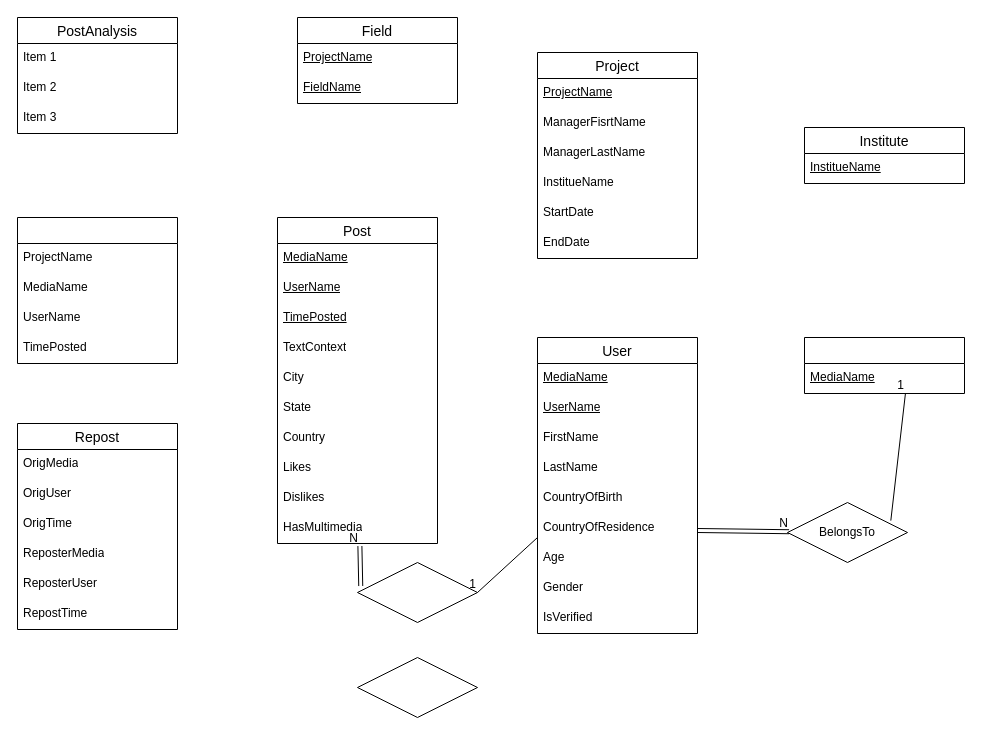
The diagram is 982 pixels wide and 735 high, and some of its shapes have lost their labels. The shapes that lost their labels are listed below. From the top down, each one's box as (x1, y1, x2, y2) in pixels, then its label:
(16, 216, 178, 364): ProjectPost
(804, 336, 964, 394): SocialMedia
(356, 562, 478, 622): Posts
(356, 656, 478, 718): Relationship
